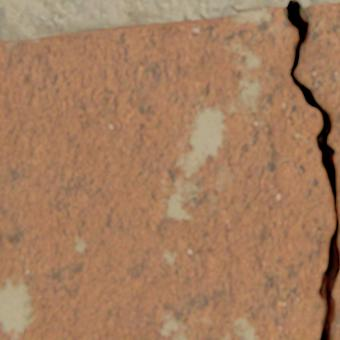broken_brick: (0, 7, 334, 339), (295, 3, 339, 219), (331, 270, 339, 339), (338, 236, 339, 252)
crack: (285, 0, 339, 339)
